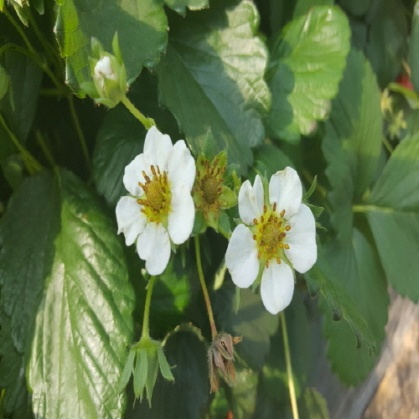Blossom_BT: (126, 198, 259, 270), (141, 161, 286, 227), (191, 156, 225, 214)
